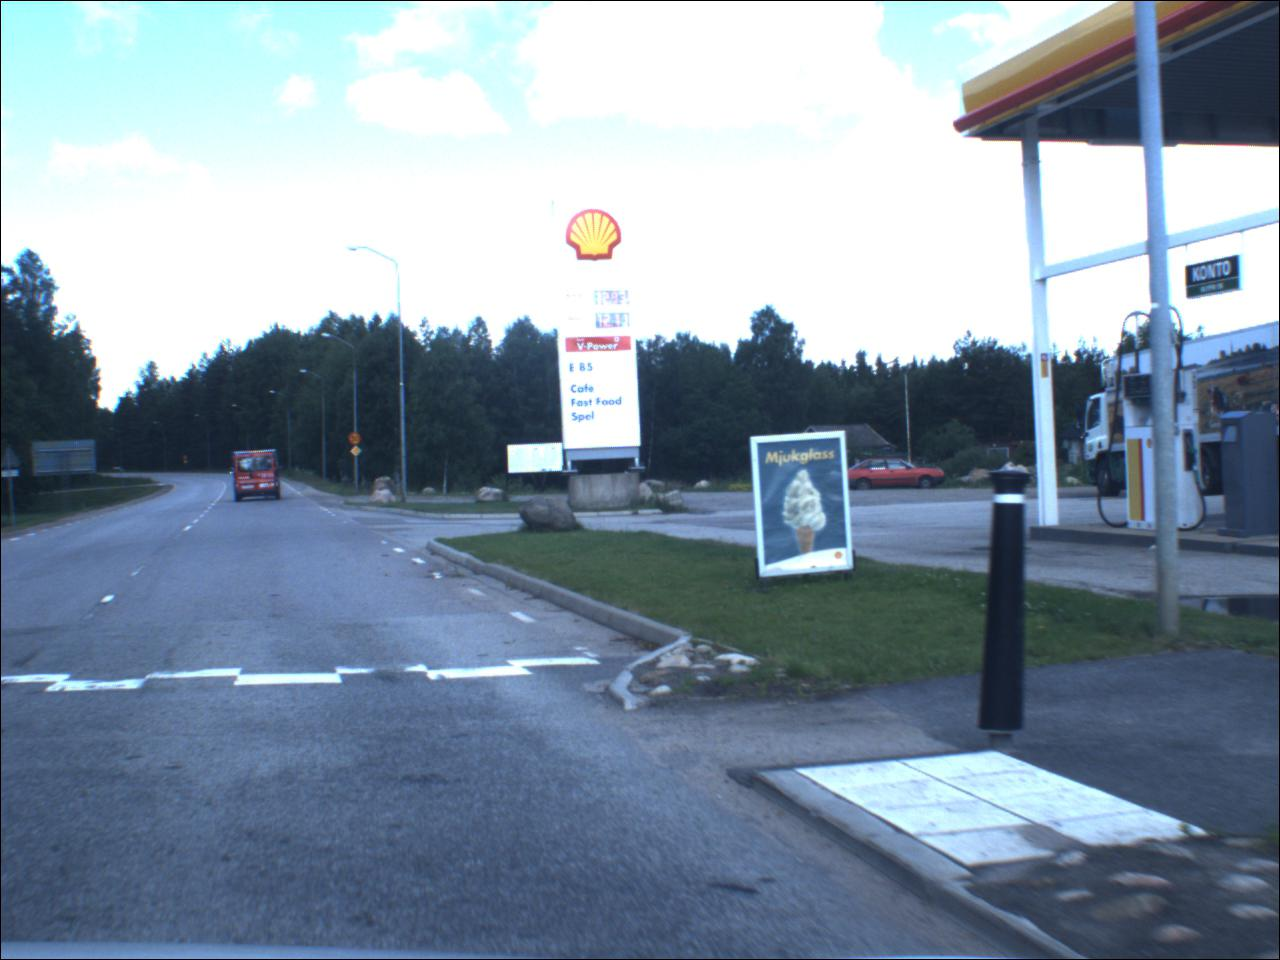50_SIGN: (350, 433, 364, 447)
PRIORITY_ROAD: (350, 447, 364, 459)
